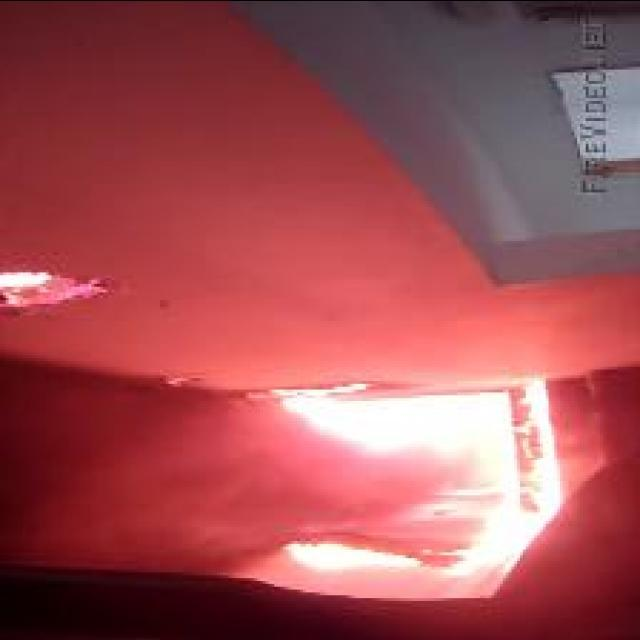Fire: (272, 377, 564, 574)
